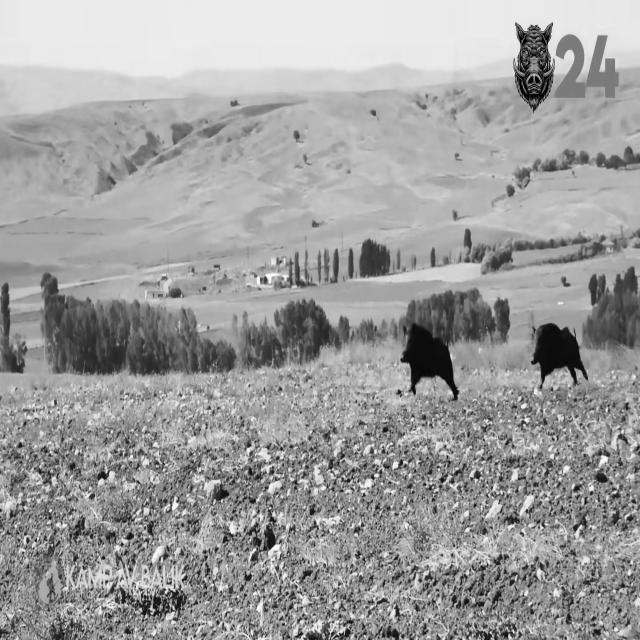boar: (400, 322, 458, 399), (514, 21, 556, 111), (531, 323, 587, 388)
